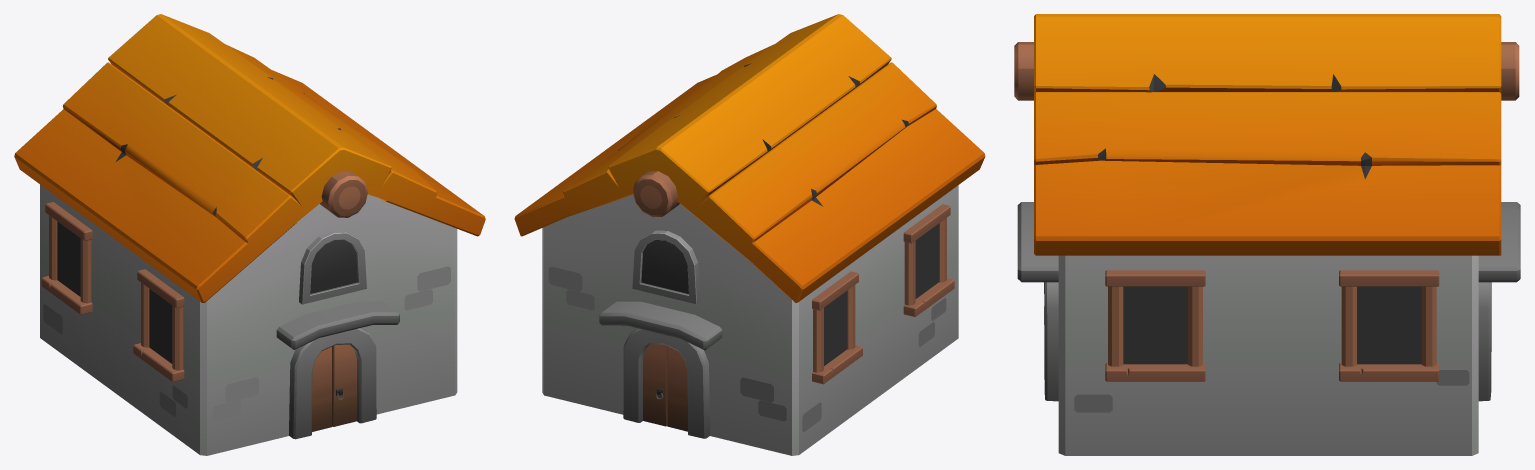
Rendered from House_2.fbx.
The picture shows the model from 3 angles, left to right: view 1: azimuth 30°, elevation 25°; view 2: azimuth 150°, elevation 25°; view 3: azimuth 270°, elevation 25°; orthographic projection. The views are drawn at different scales.
Parts seen in each view (by area): view 1: House_2; view 2: House_2; view 3: House_2.
Boxes of the visible parts, left/top/right/bottom form: House_2: left=14, top=14, right=485, bottom=455; House_2: left=514, top=14, right=985, bottom=455; House_2: left=1014, top=14, right=1520, bottom=455.
Bounding box in the file's own units: 215 × 202 × 257.
